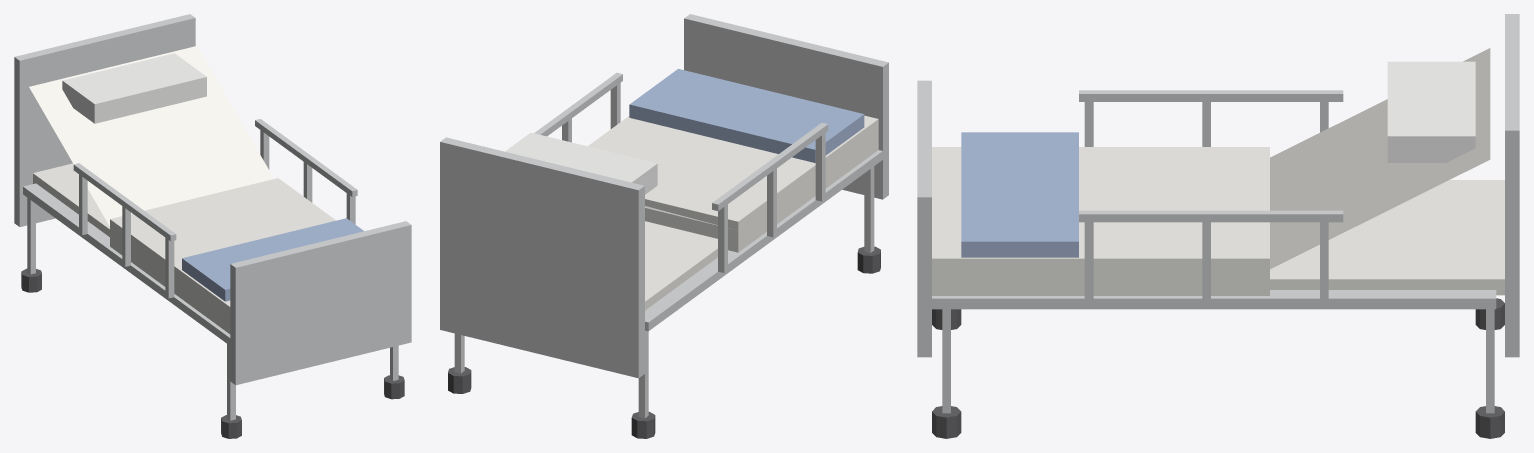
The model's file is Hospital_Bed.fbx.
The picture shows the model from 3 angles, left to right: view 1: azimuth 30°, elevation 25°; view 2: azimuth 150°, elevation 25°; view 3: azimuth 270°, elevation 25°; orthographic projection. The views are drawn at different scales.
Parts seen in each view (by area): view 1: Hospital_Bed; view 2: Hospital_Bed; view 3: Hospital_Bed.
Part boxes in pixels (x1,y1,x2,y2): Hospital_Bed: (14,14,411,438); Hospital_Bed: (440,14,888,438); Hospital_Bed: (917,14,1519,438).
Size of the model in its own units: 1 by 1.15 by 2.05.
